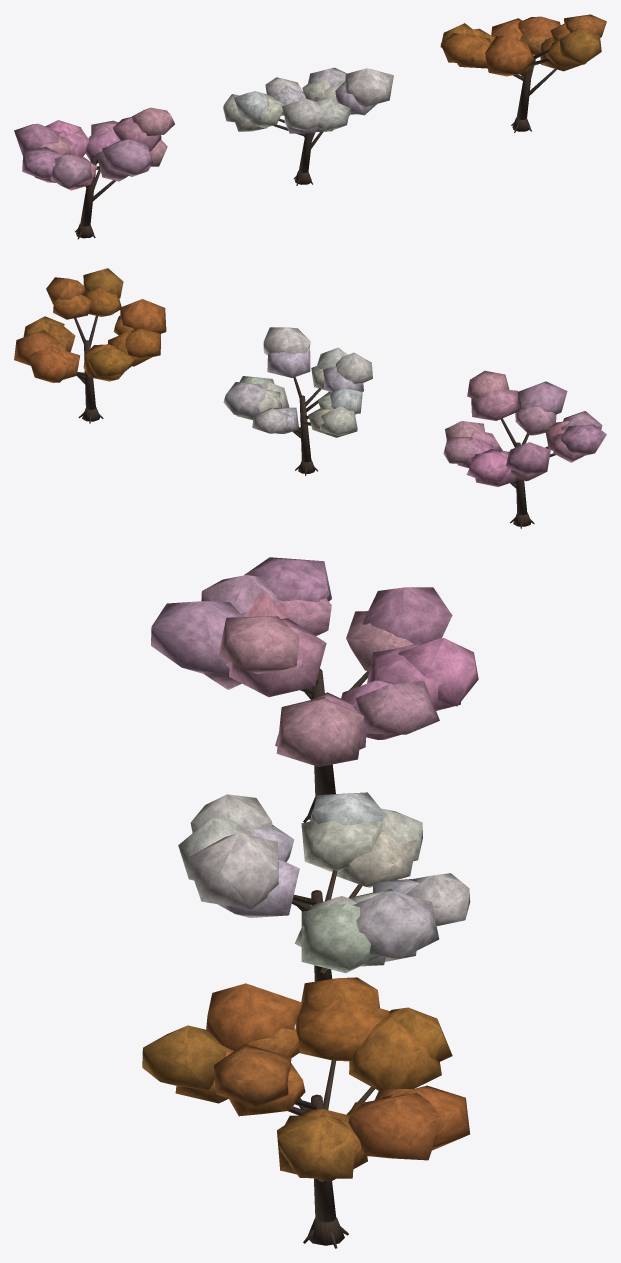
The model's file is tree_blossom.glb.
3 renders of one model, top to bottom at view 1: azimuth 30°, elevation 25°; view 2: azimuth 150°, elevation 25°; view 3: azimuth 270°, elevation 25°, orthographic. The views are drawn at different scales.
Visible parts, largest first — view 1: tree_blossom_v1, tree_blossom_v2, tree_blossom_v3; view 2: tree_blossom_v1, tree_blossom_v3, tree_blossom_v2; view 3: tree_blossom_v3, tree_blossom_v1, tree_blossom_v2.
Boxes of the visible parts, x1,y1,x2,y2 form: tree_blossom_v1: (14, 107, 174, 239); tree_blossom_v2: (223, 67, 393, 185); tree_blossom_v3: (440, 14, 606, 132); tree_blossom_v1: (443, 370, 606, 528); tree_blossom_v3: (14, 268, 166, 423); tree_blossom_v2: (223, 327, 372, 475); tree_blossom_v3: (142, 977, 469, 1248); tree_blossom_v1: (151, 557, 478, 822); tree_blossom_v2: (178, 792, 470, 981).
Size of the model in its own units: 21.11 by 4.43 by 5.41.
2 materials, 2 textured.
